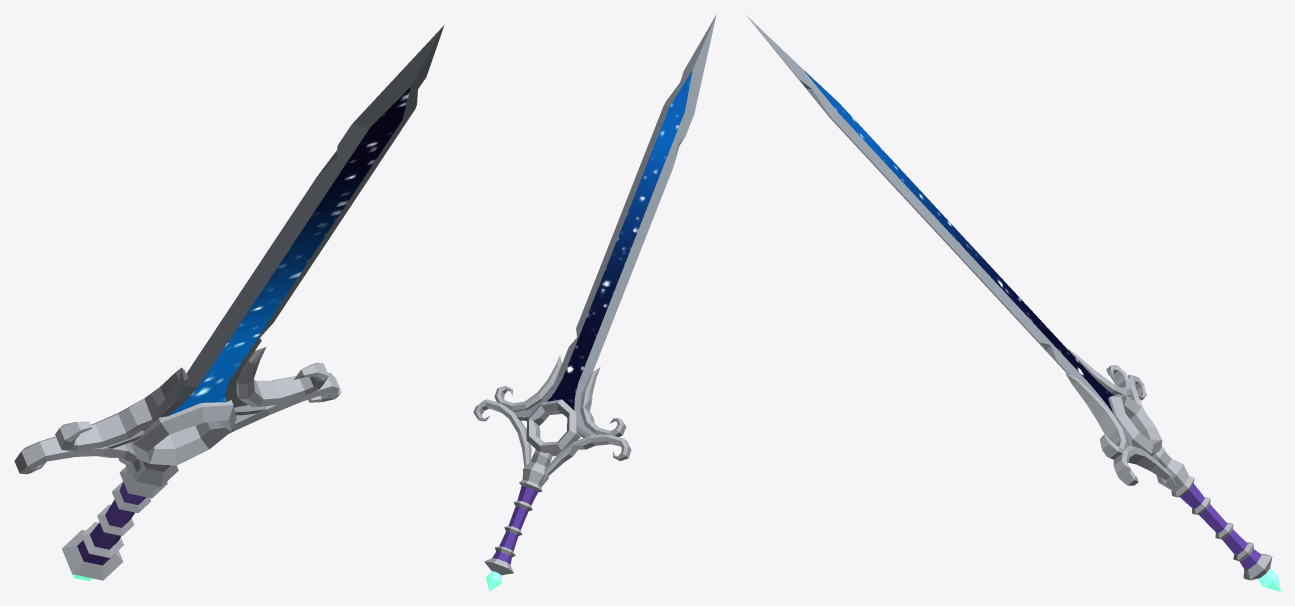
Rendered from er-sword-01.glb.
3 views of the same model, side by side, from view 1: azimuth 30°, elevation 25°; view 2: azimuth 150°, elevation 25°; view 3: azimuth 270°, elevation 25° (orthographic). The views are drawn at different scales.
Parts seen in each view (by area): view 1: er-sword-01; view 2: er-sword-01; view 3: er-sword-01.
Part boxes in pixels (x1,y1,x2,y2): er-sword-01: (14,25,444,581); er-sword-01: (473,14,716,591); er-sword-01: (745,14,1280,591).
Size of the model in its own units: 0.4481 by 1.19 by 1.02.
Materials: 1 (1 with a texture image).
